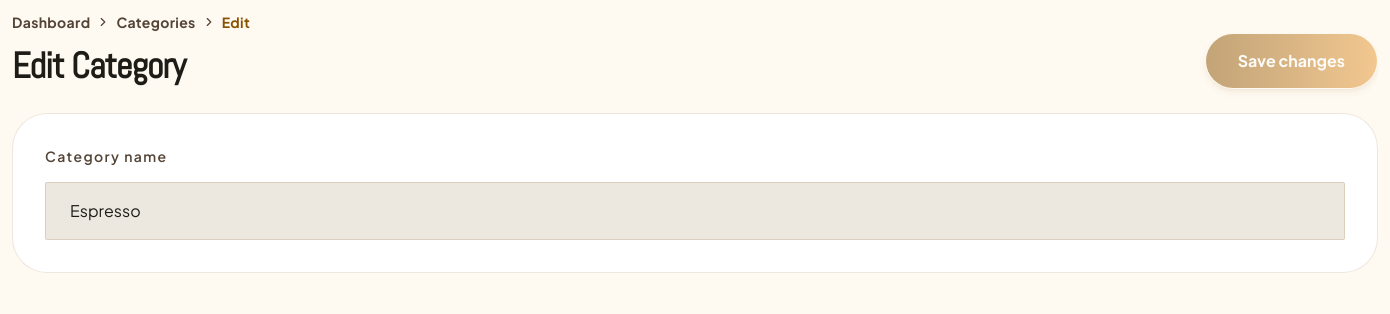
Test case: EditCategory API errors › shows a duplicate-name API error under Category name
Replace the text in the field labelled "Category name" with "Filter" at (695, 211), box [45,182,1345,240]
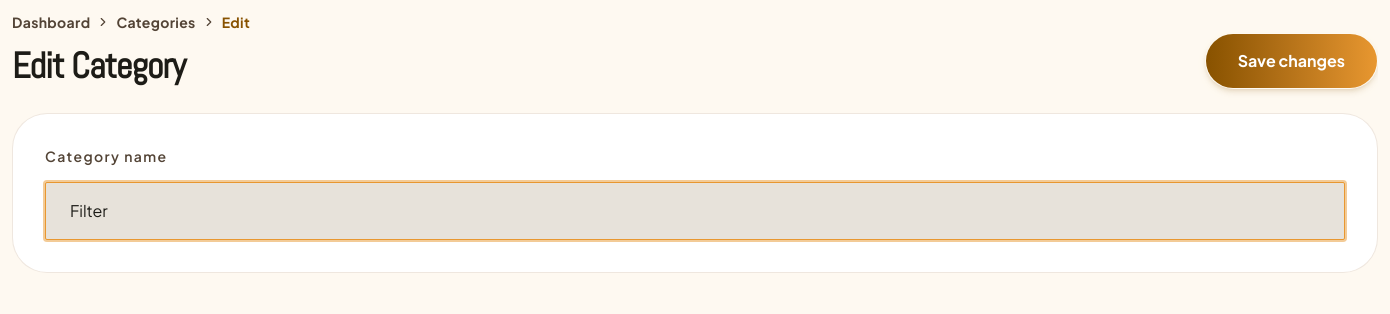
Click the button "Save changes" at (1291, 61), box [1205,33,1378,89]
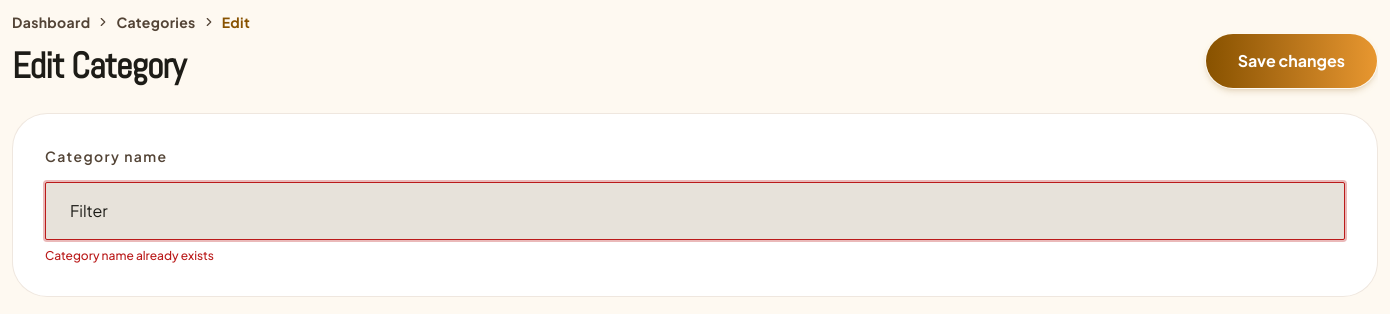
Expected: the text "Category name already exists" is shown, [45,248,214,263]
